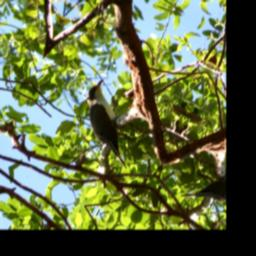Cuckoo: (67, 75, 158, 168)
